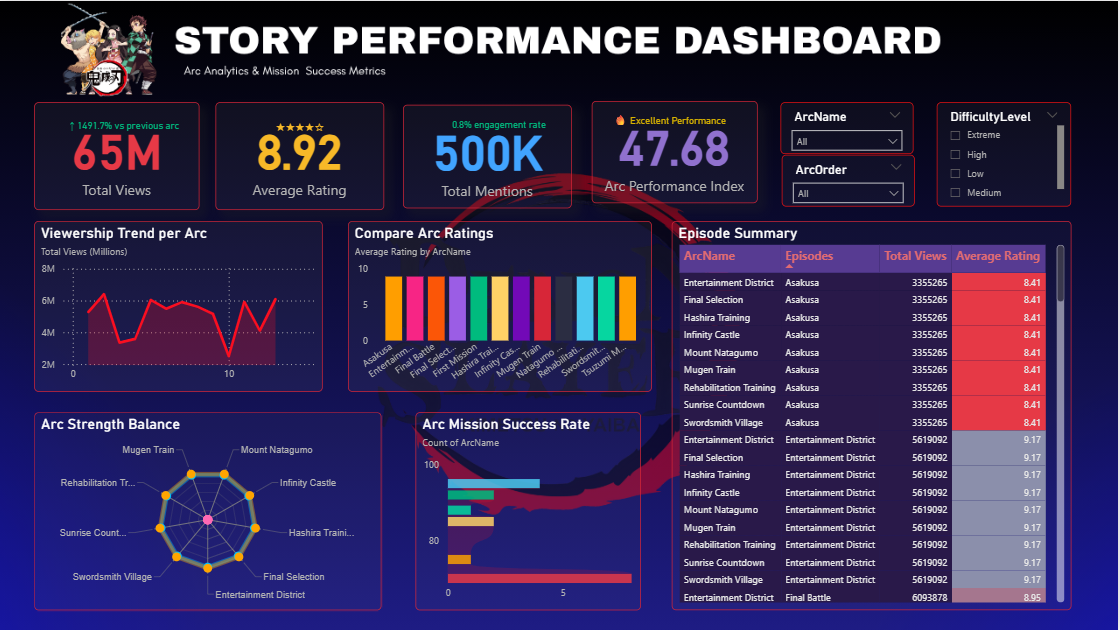

Layout of this report page (visuals, bound fields, positions):
{"tool":"powerbi","page":{"name":"Dashboard 1","canvas":[1280,720],"ordinal":0},"visuals":[{"type":"card","title":"Total View","fields":{"Values":["Battles.Total Views"]},"box":[41.2,115.3,189,123],"z":0,"group":"g1"},{"type":"lineChart","title":"Viewership Trend per Arc","fields":{"Category":["Episodes.ArcOrder"],"Y":["Battles.Total Views"]},"box":[41.2,251.1,329.3,194.9],"z":0},{"type":"clusteredColumnChart","title":"Compare Arc Ratings","fields":{"Category":["Battles.ArcName"],"Y":["Battles.Average Rating"]},"box":[399.3,251.1,347.2,194.9],"z":1000},{"type":"card","fields":{"Values":["Arc_Hashira_Map.Arc Performance Index"]},"box":[678.6,114.7,189.4,116.6],"z":2000,"group":"g3"},{"type":"card","fields":{"Values":["Battles.Average Rating"]},"box":[248.4,115.3,193,123],"z":2000},{"type":"tableEx","title":"Episode Summary","fields":{"Values":["Arc_Hashira_Map.ArcName","Episodes.ArcName","Episodes.Total_Views","Battles.Average Rating"]},"box":[769.8,251.1,456.9,444.6],"z":3000},{"type":"slicer","fields":{"Values":["Episodes.ArcOrder"]},"box":[896.1,175.6,152.3,59],"z":4000},{"type":"slicer","fields":{"Values":["Episodes.ArcName"]},"box":[894.7,115.3,152.3,59],"z":5000},{"type":"card","fields":{"Values":["Battles.Total Mentions"]},"box":[463.1,118.2,193,118.7],"z":5000,"group":"g2"},{"type":"slicer","fields":{"Values":["Battles.DifficultyLevel"]},"box":[1073.1,115.3,153.7,119.4],"z":6000},{"type":"barChart","title":"Arc Mission Success Rate","fields":{"Category":["Episodes.MissionSuccessRate"],"Y":["CountNonNull(Arc_Hashira_Map.ArcName)"]},"box":[477.5,469.3,258,226.4],"z":7000},{"type":"RadarChart1446119667547","title":"Arc Strength Balance","fields":{"Category":["Arc_Hashira_Map.ArcName"],"Y":["Sum(Episodes.EmotionalGrowthScore)","Sum(Episodes.MissionSuccessRate)","Arc_Hashira_Map.Avg Rating (Char-Arc)"]},"box":[41.2,469.3,396.6,226.4],"z":8000},{"type":"group","id":"g1","title":"Group 1","box":[41.2,115.3,189,123],"z":9000},{"type":"group","id":"g2","title":"Group 3","box":[463.1,113.9,193,123],"z":10000},{"type":"group","id":"g3","title":"Group 4","box":[673.8,108.4,193.5,123.5],"z":11000},{"type":"card","fields":{"Values":["Arc_Hashira_Map.Views Change Text"]},"box":[73.9,127.3,140,35.7],"z":12000,"group":"g1"},{"type":"card","fields":{"Values":["Arc_Hashira_Map.Star_Rating"]},"box":[275.3,128.6,138.6,35.7],"z":12000},{"type":"card","fields":{"Values":["Arc_Hashira_Map.Performance_Status"]},"box":[673.8,108.4,186.6,60.4],"z":14000,"group":"g3"},{"type":"card","fields":{"Values":["Arc_Hashira_Map.Engagement_Rate_Text"]},"box":[496,113.9,153.8,57.2],"z":15000,"group":"g2"}]}

Visuals, with their boxes in screenshot pixels (x1, y1, x2, y2), scaled from the page's 1280x720 canvas onto the 1120x630 screenshot:
"Total View" card: <region>36, 101, 201, 209</region>
"Viewership Trend per Arc" lineChart: <region>36, 220, 324, 390</region>
"Compare Arc Ratings" clusteredColumnChart: <region>349, 220, 653, 390</region>
card - Arc_Hashira_Map.Arc Performance Index: <region>594, 100, 760, 202</region>
card - Battles.Average Rating: <region>217, 101, 386, 209</region>
"Episode Summary" tableEx: <region>674, 220, 1073, 609</region>
slicer - Episodes.ArcOrder: <region>784, 154, 917, 205</region>
slicer - Episodes.ArcName: <region>783, 101, 916, 153</region>
card - Battles.Total Mentions: <region>405, 103, 574, 207</region>
slicer - Battles.DifficultyLevel: <region>939, 101, 1073, 205</region>
"Arc Mission Success Rate" barChart: <region>418, 411, 644, 609</region>
"Arc Strength Balance" RadarChart1446119667547: <region>36, 411, 383, 609</region>
"Group 1" group: <region>36, 101, 201, 209</region>
"Group 3" group: <region>405, 100, 574, 207</region>
"Group 4" group: <region>590, 95, 759, 203</region>
card - Arc_Hashira_Map.Views Change Text: <region>65, 111, 187, 143</region>
card - Arc_Hashira_Map.Star_Rating: <region>241, 113, 362, 144</region>
card - Arc_Hashira_Map.Performance_Status: <region>590, 95, 753, 148</region>
card - Arc_Hashira_Map.Engagement_Rate_Text: <region>434, 100, 569, 150</region>
